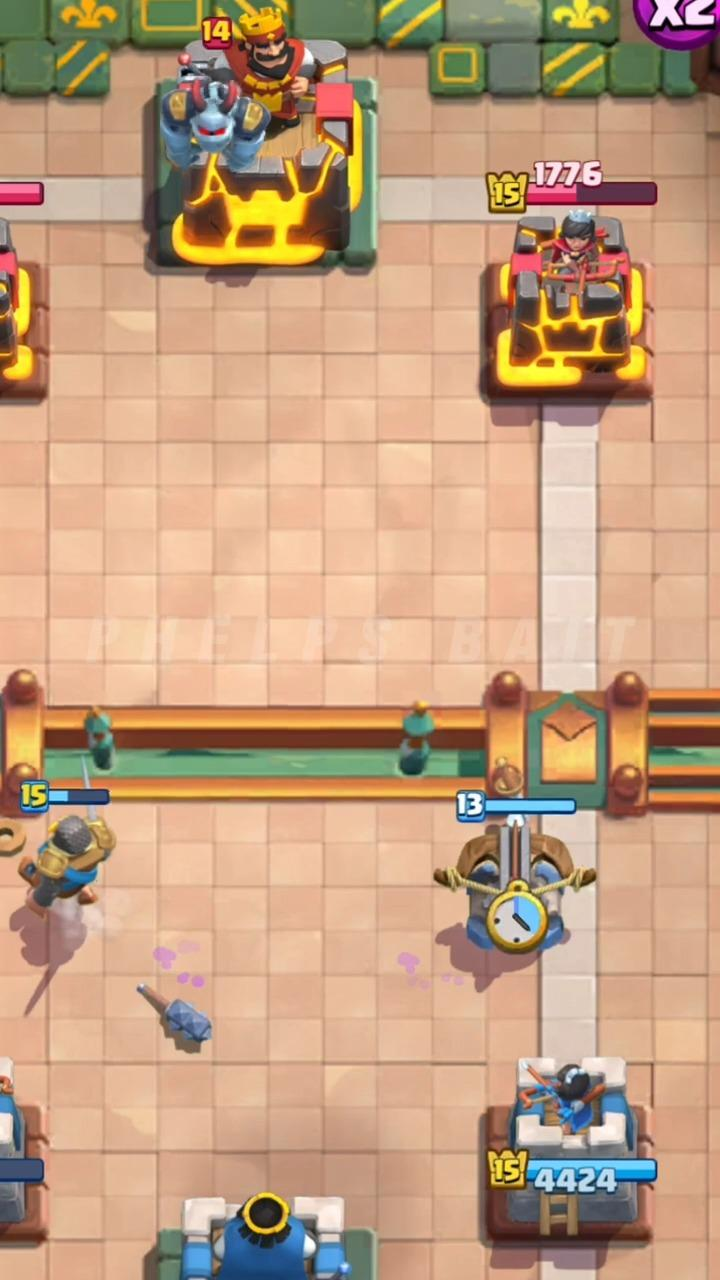knight: (19, 809, 115, 916)
mega minion: (161, 55, 270, 172)
x-bow: (434, 796, 595, 955)
